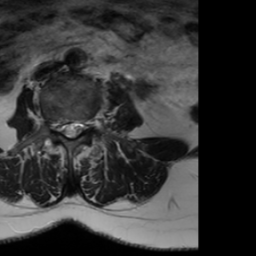CCS_stenosis: (68, 111, 75, 145)
LFS_normal: (84, 110, 93, 136)
LLS_normal: (75, 111, 84, 140)
RFS_normal: (51, 110, 60, 139)
RLS_normal: (60, 112, 68, 142)
